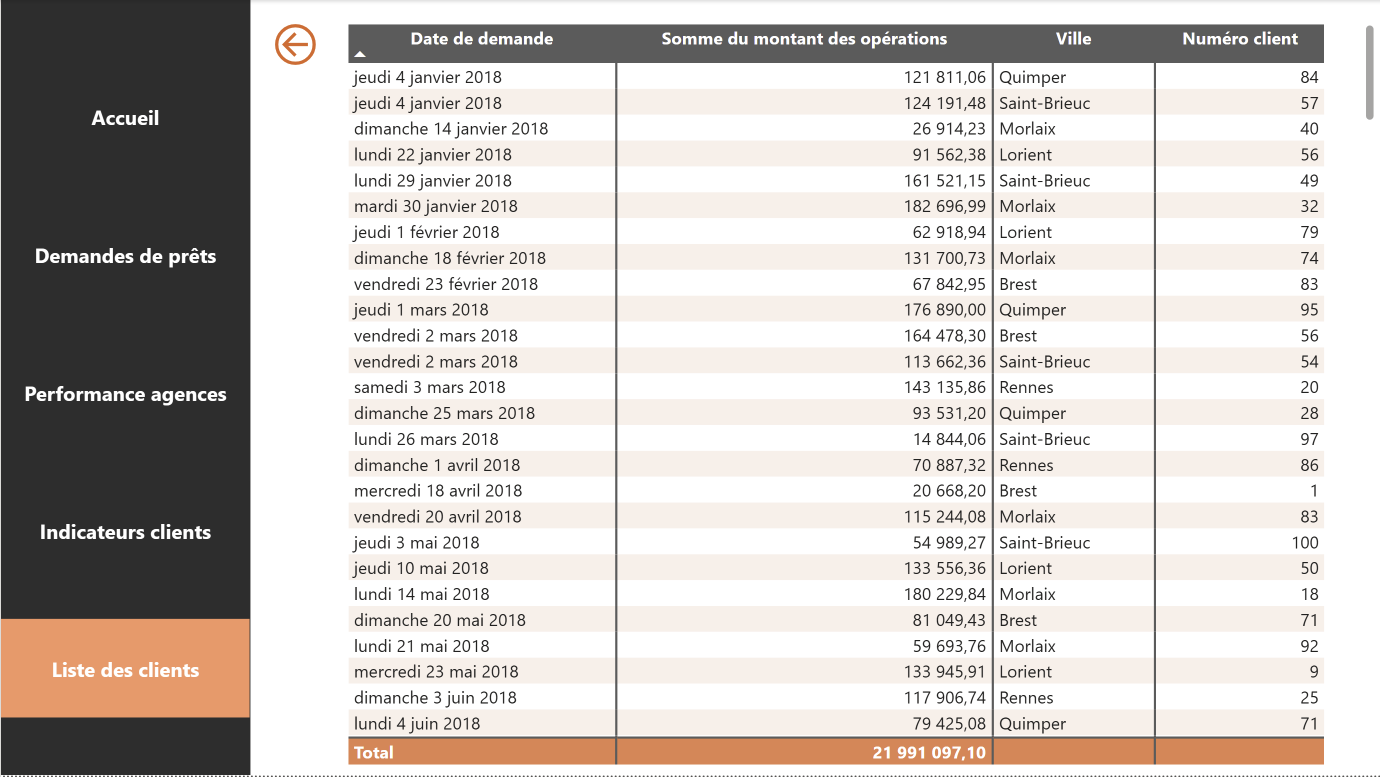

The page's visual inventory and layout, read from the dashboard file:
{"tool":"powerbi","page":{"name":"Liste des clients","canvas":[1280,720],"ordinal":4},"visuals":[{"type":"tableEx","fields":{"Values":["Demandes de pret.Date de demande","Sum(Demandes de pret.Montant opération)","Agences.Ville","Demandes de pret.Numéro client"]},"box":[316.5,17.6,963.5,697.1],"z":0},{"type":"actionButton","box":[223.7,16.7,99.3,49.2],"z":1000},{"type":"pageNavigator","box":[0,62.2,231.7,607.3],"z":1000,"group":"g1"},{"type":"shape","box":[0,0,231.7,719.5],"z":1001},{"type":"group","id":"g1","title":"Groupe 2","box":[0,62.2,231.7,607.3],"z":1002}]}

Visuals, with their boxes on the page's 1280x720 design canvas (x1, y1, x2, y2). These are canvas units, not pixel positions in the 1380x777 screenshot, which may show the page scaled, cropped or inside an application window:
tableEx - Demandes de pret.Date de demande x Sum(Demandes de pret.Montant opération): [316,18,1280,715]
actionButton: [224,17,323,66]
pageNavigator: [0,62,232,670]
shape: [0,0,232,720]
"Groupe 2" group: [0,62,232,670]
